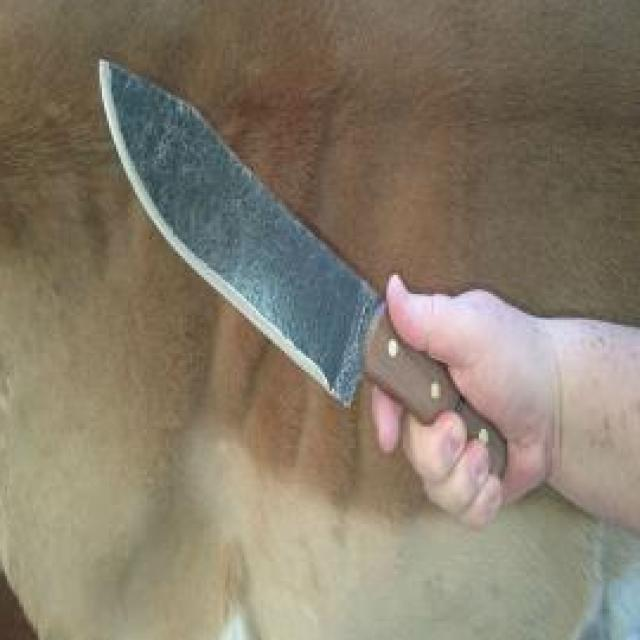knife: (90, 45, 518, 536)
